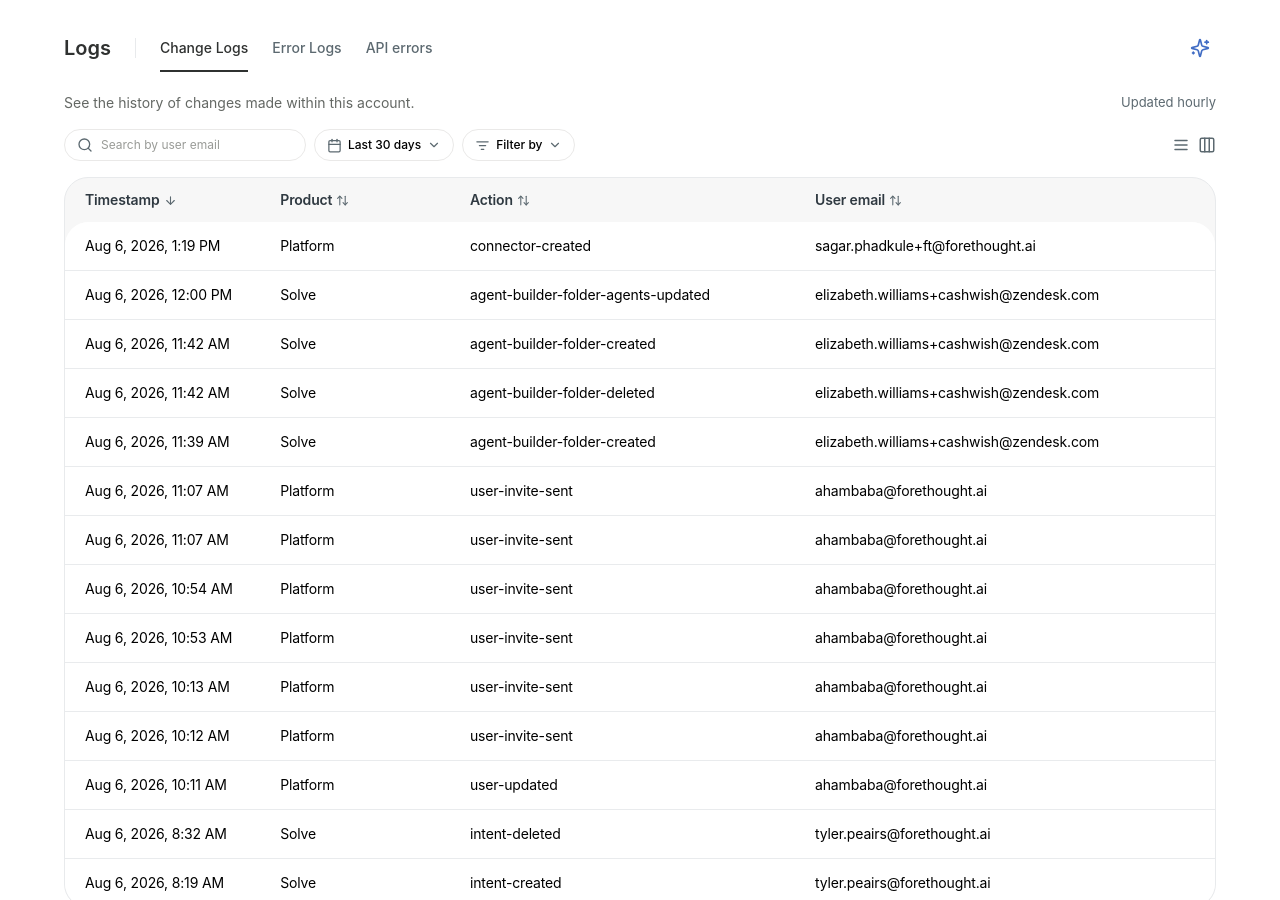
LogScreen › switches to Error Logs and shows the revised overview and table
Click the tab "Error Logs". click: {"x": 307, "y": 54}
box: top-left (272, 36), bottom-right (342, 72)
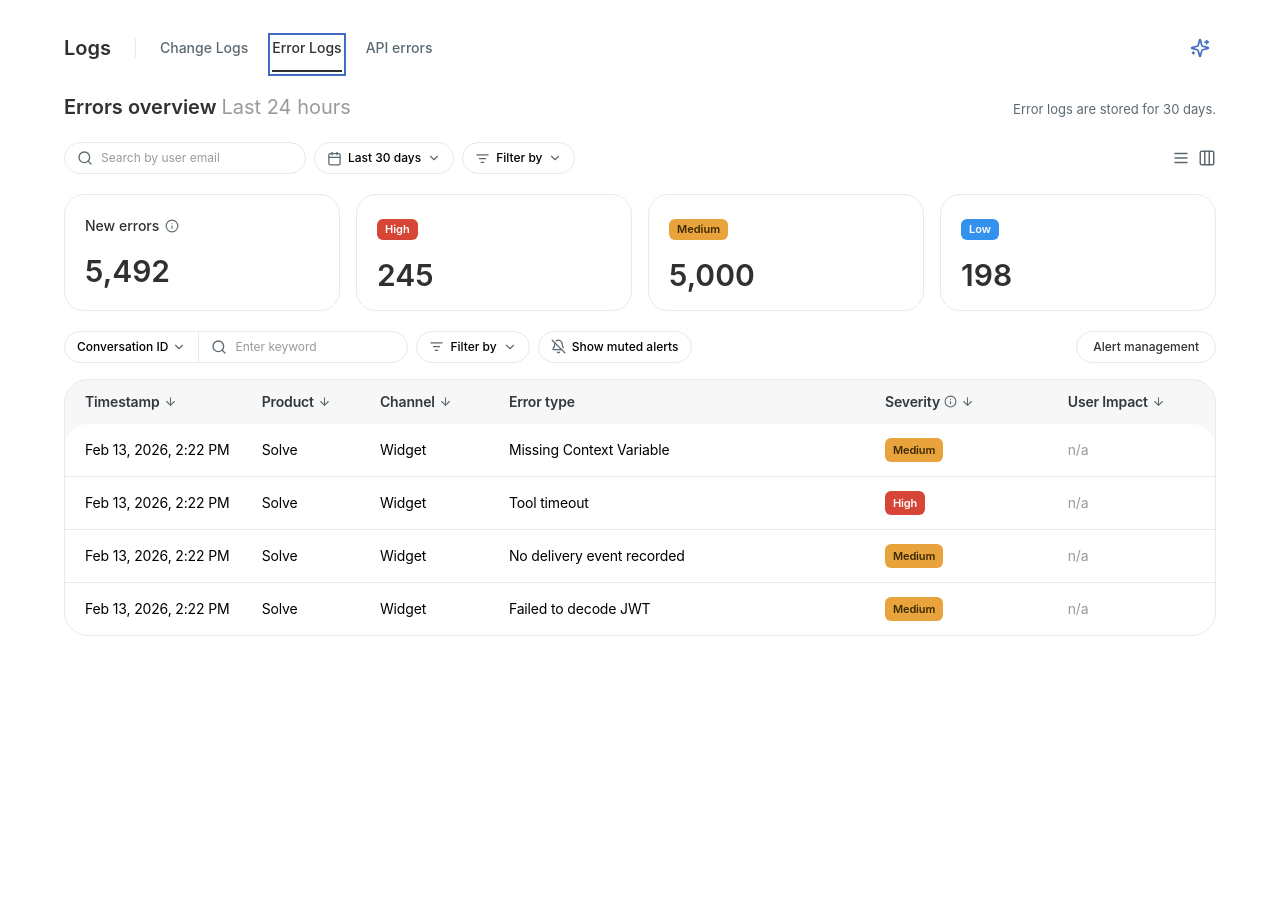
Result: the heading "Errors overview Last 24 hours" is shown at top-left (64, 92), bottom-right (351, 122)
Result: the text "5,492" is shown at top-left (85, 253), bottom-right (170, 289)
Result: the text "Error type" is shown at top-left (509, 392), bottom-right (575, 410)
